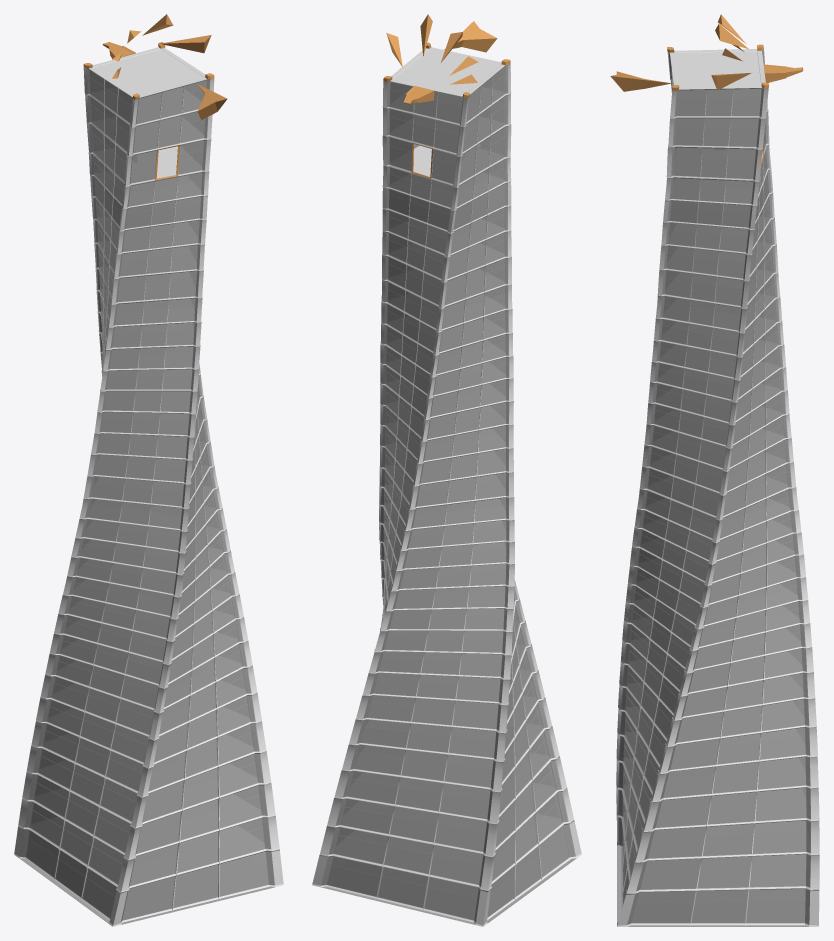
The model's file is Final_Tower.fbx.
The picture shows the model from 3 angles, left to right: view 1: azimuth 30°, elevation 25°; view 2: azimuth 150°, elevation 25°; view 3: azimuth 270°, elevation 25°; orthographic projection. The views are drawn at different scales.
Parts seen in each view (by area): view 1: Final_Tower; view 2: Final_Tower; view 3: Final_Tower.
Boxes of the visible parts, <box> form: Final_Tower: <box>14,14,283,926</box>; Final_Tower: <box>312,14,581,926</box>; Final_Tower: <box>610,14,819,926</box>.
Size of the model in its own units: 1451 by 6842 by 1494.
